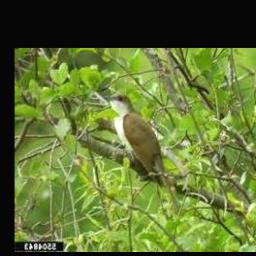Cuckoo: (108, 93, 178, 213)
